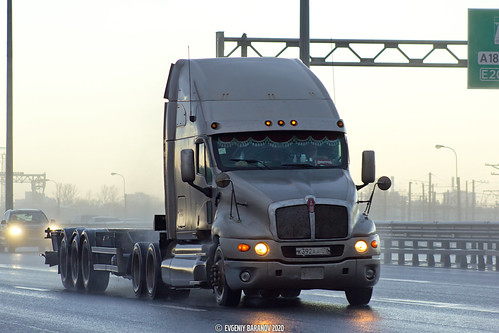plate: (292, 245, 333, 257)
truck: (44, 52, 389, 308)
